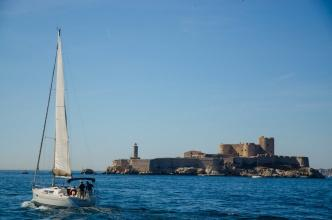fanchuan: (27, 28, 102, 211)
